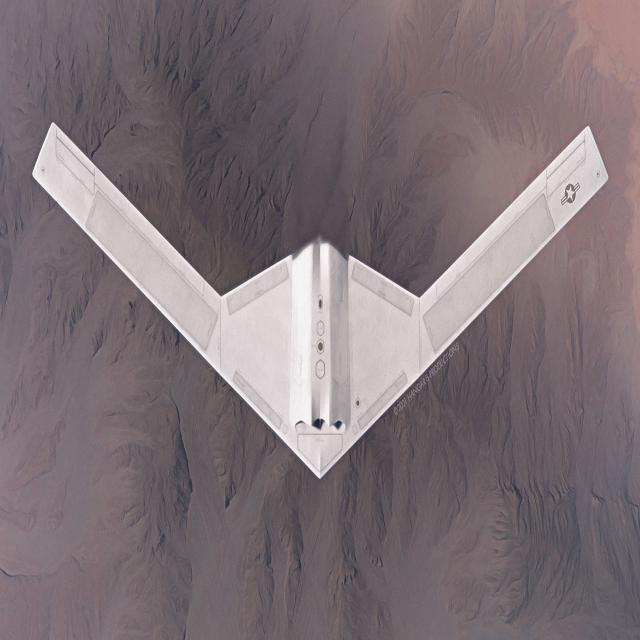iha: (31, 107, 610, 490)
